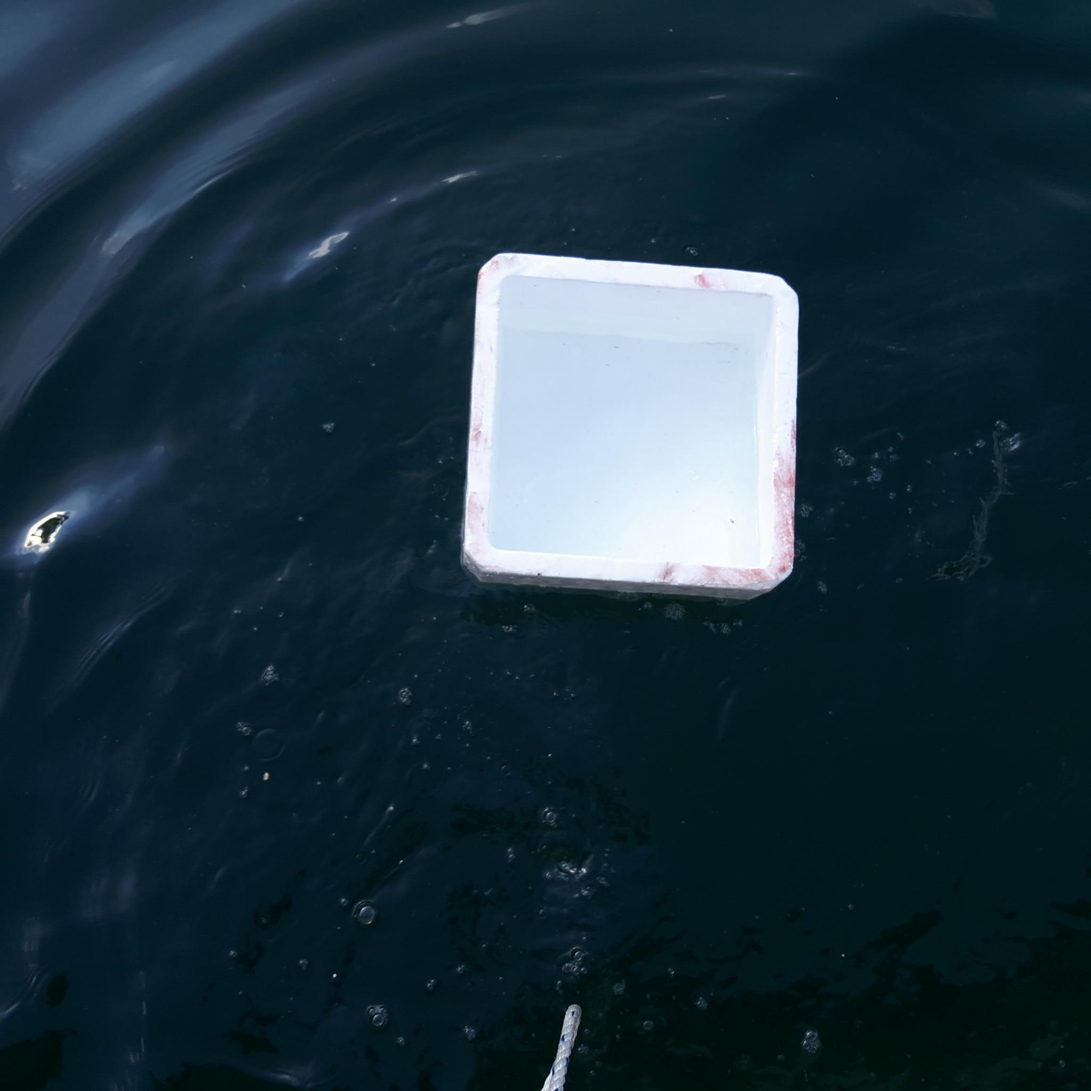sampah_terapung: (460, 253, 800, 602)
